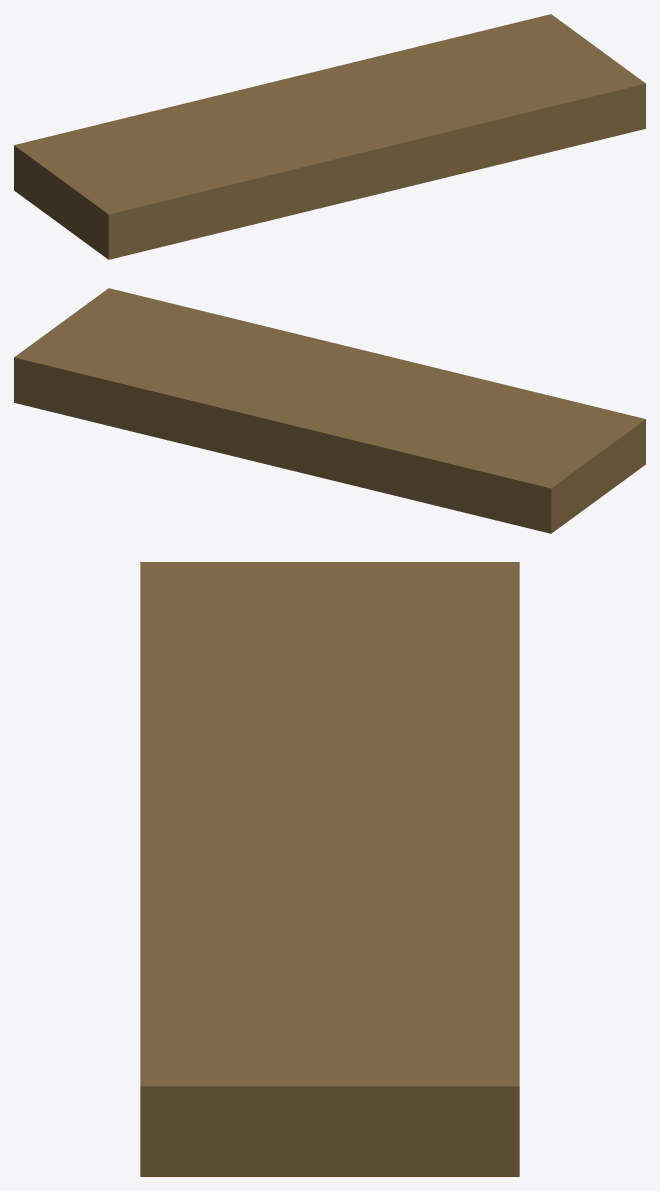
Rendered from Itr_Wardrobe4_Base_01.FBX.
3 views of the same model, one above another, from view 1: azimuth 30°, elevation 25°; view 2: azimuth 150°, elevation 25°; view 3: azimuth 270°, elevation 25° (orthographic). The views are drawn at different scales.
Parts seen in each view (by area): view 1: Itr_Wardrobe4_Base_01; view 2: Itr_Wardrobe4_Base_01; view 3: Itr_Wardrobe4_Base_01.
Part boxes in pixels (bbox=[...]): Itr_Wardrobe4_Base_01: bbox=[14, 14, 645, 259]; Itr_Wardrobe4_Base_01: bbox=[14, 288, 645, 533]; Itr_Wardrobe4_Base_01: bbox=[140, 562, 519, 1176].
Size of the model in its own units: 63.07 by 5.09 by 19.28.
